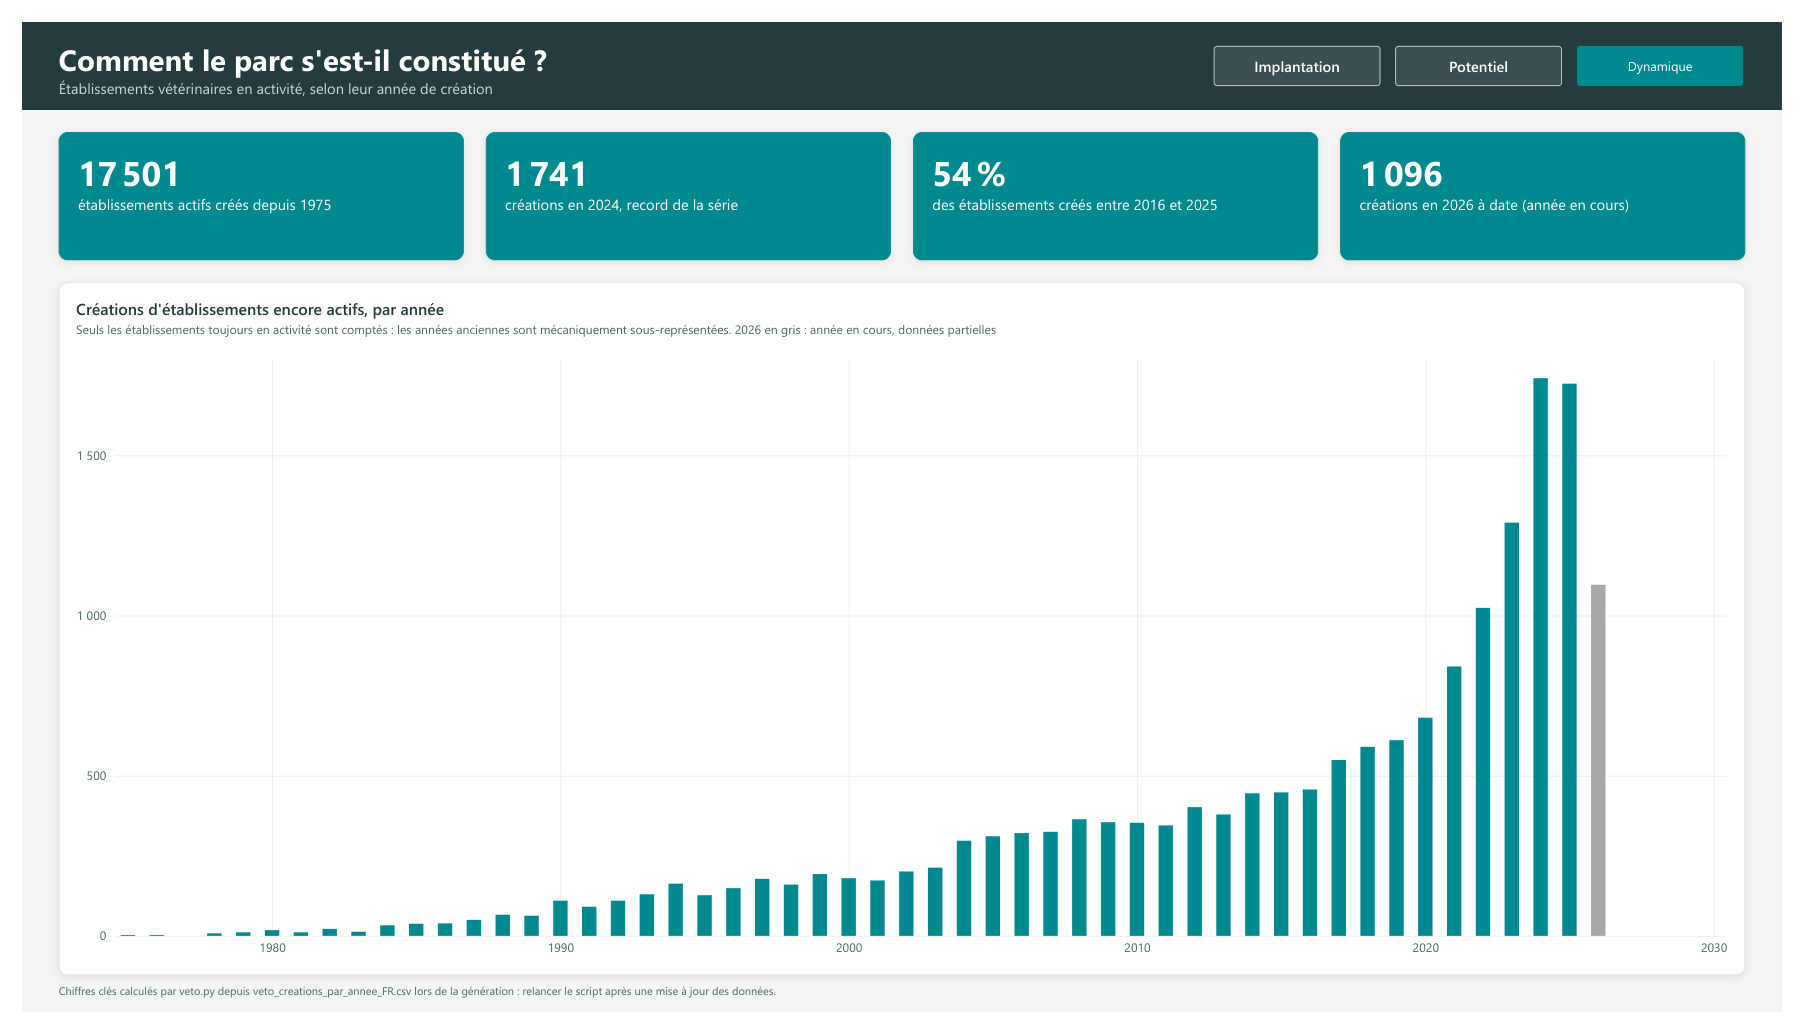

The page's visual inventory and layout, read from the dashboard file:
{"tool":"powerbi","page":{"name":"Dynamique","canvas":[1920,1080],"ordinal":2},"visuals":[{"type":"textbox","box":[0,0,1920,96],"z":0},{"type":"clusteredColumnChart","title":"Créations d''établissements encore actifs, par année","fields":{"Category":["veto_creations_par_annee_FR.annee"],"Y":["Sum(veto_creations_par_annee_FR.etab_actifs_crees)"]},"box":[40,284,1840,756],"z":10},{"type":"textbox","box":[40,120,442,140],"z":50},{"type":"textbox","box":[506,120,442,140],"z":51},{"type":"textbox","box":[972,120,442,140],"z":52},{"type":"textbox","box":[1438,120,442,140],"z":53},{"type":"textbox","box":[40,1048,1840,24],"z":70},{"type":"pageNavigator","box":[1300,26,580,44],"z":100}]}

Visuals, with their boxes in screenshot pixels (x1, y1, x2, y2), scaled from the page's 1920x1080 canvas onto the 1804x1034 screenshot:
textbox: <region>0, 0, 1803, 92</region>
"Créations d''établissements encore actifs, par année" clusteredColumnChart: <region>38, 272, 1766, 996</region>
textbox: <region>38, 115, 453, 249</region>
textbox: <region>475, 115, 891, 249</region>
textbox: <region>913, 115, 1329, 249</region>
textbox: <region>1351, 115, 1766, 249</region>
textbox: <region>38, 1003, 1766, 1026</region>
pageNavigator: <region>1221, 25, 1766, 67</region>
